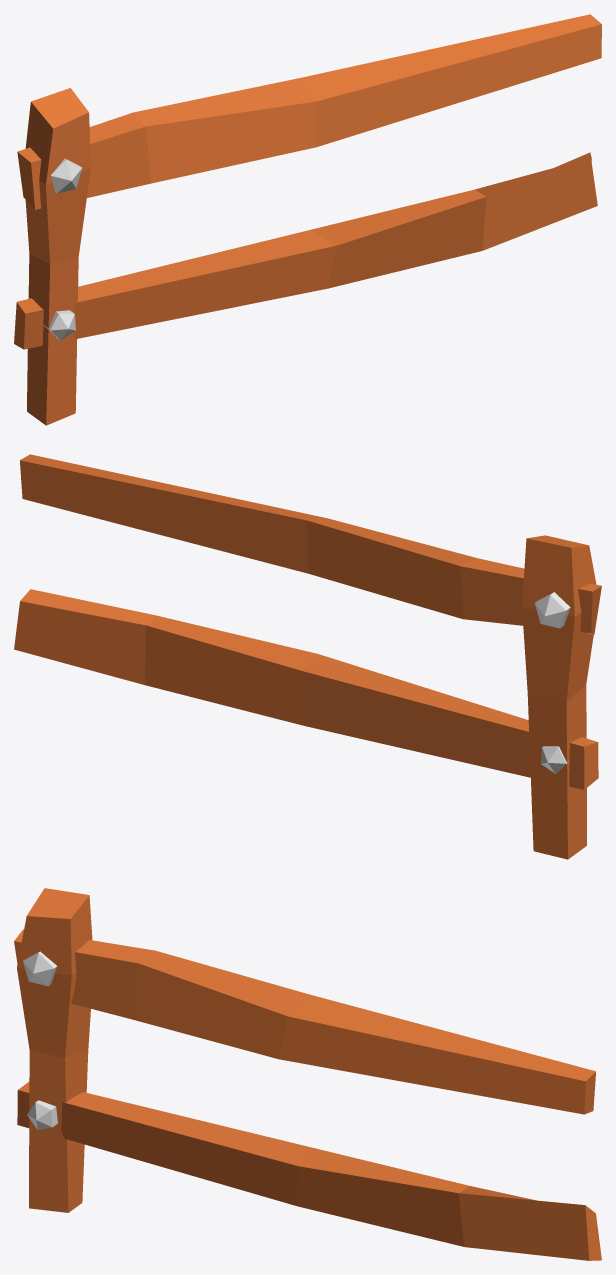
File: Fence_Left.fbx
3 renders of one model, top to bottom at view 1: azimuth 30°, elevation 25°; view 2: azimuth 150°, elevation 25°; view 3: azimuth 330°, elevation 25°, orthographic.
Visible parts, largest first — view 1: Fence_Left; view 2: Fence_Left; view 3: Fence_Left.
Boxes of the visible parts, <box> form: Fence_Left: <box>14,14,601,425</box>; Fence_Left: <box>14,454,601,859</box>; Fence_Left: <box>14,888,601,1260</box>.
Bounding box in the file's own units: 586 × 302 × 67.1.
